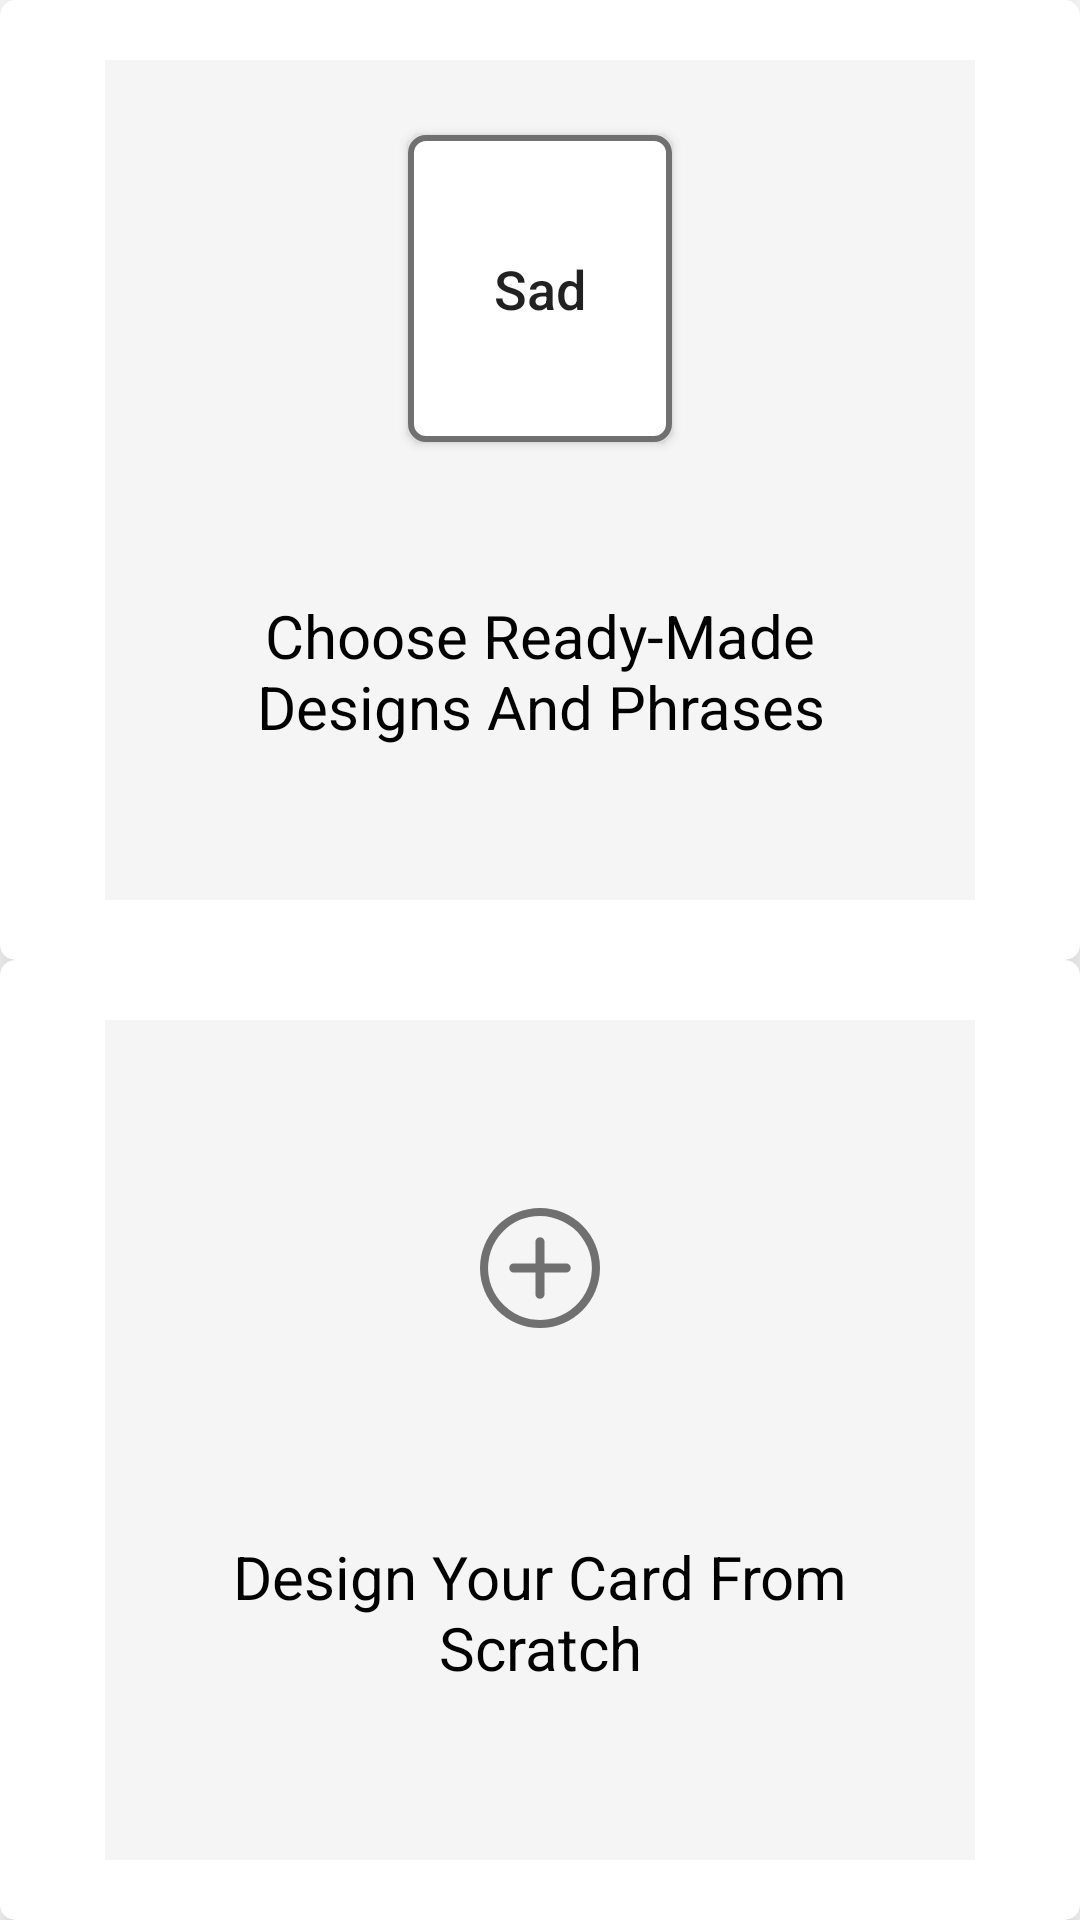

Screen size 1080×1920. Icon name, then its center in pixels as (x=x, y=y):
plus: (x=540, y=1268)
